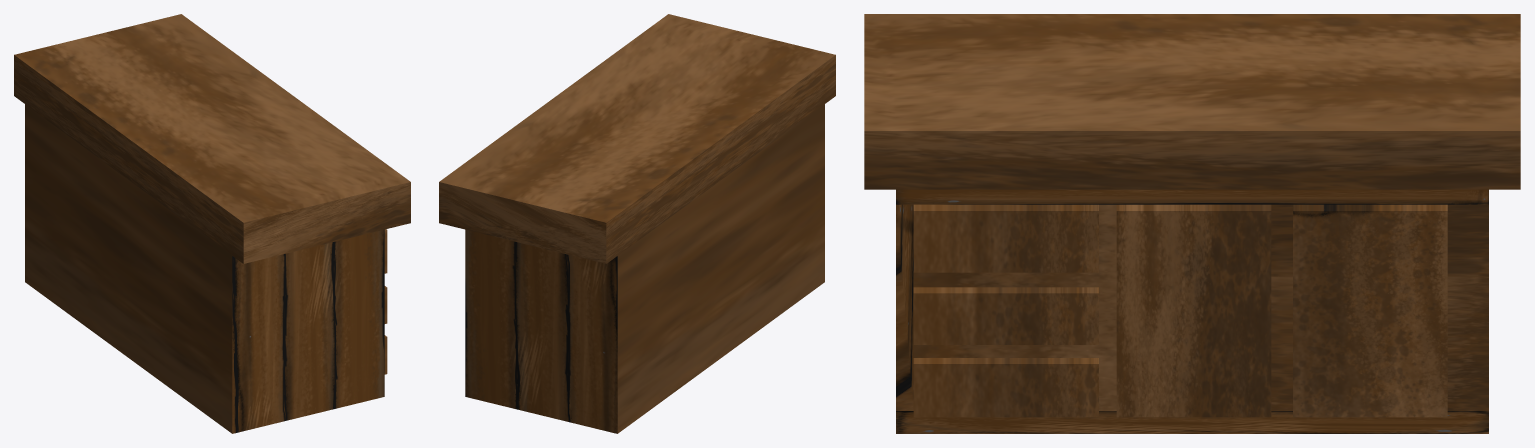
The model's file is counter.fbx.
3 renders of one model, left to right at view 1: azimuth 30°, elevation 25°; view 2: azimuth 150°, elevation 25°; view 3: azimuth 270°, elevation 25°, orthographic. The views are drawn at different scales.
Parts seen in each view (by area): view 1: pCube2; view 2: pCube2; view 3: pCube2.
Part boxes in pixels (x1,y1,x2,y2): pCube2: (14, 14, 410, 433); pCube2: (439, 14, 835, 433); pCube2: (864, 14, 1520, 433).
Bounding box in the file's own units: 3.34 × 4.19 × 7.94.
Materials: 1 (1 with a texture image).
